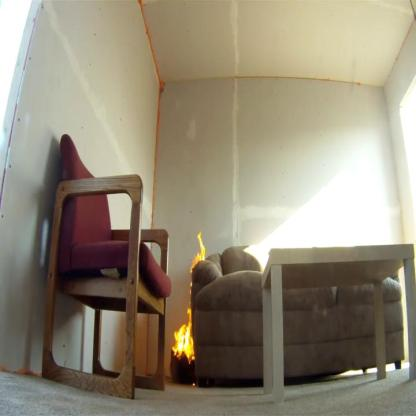fire: (170, 308, 196, 364), (186, 231, 208, 272)
